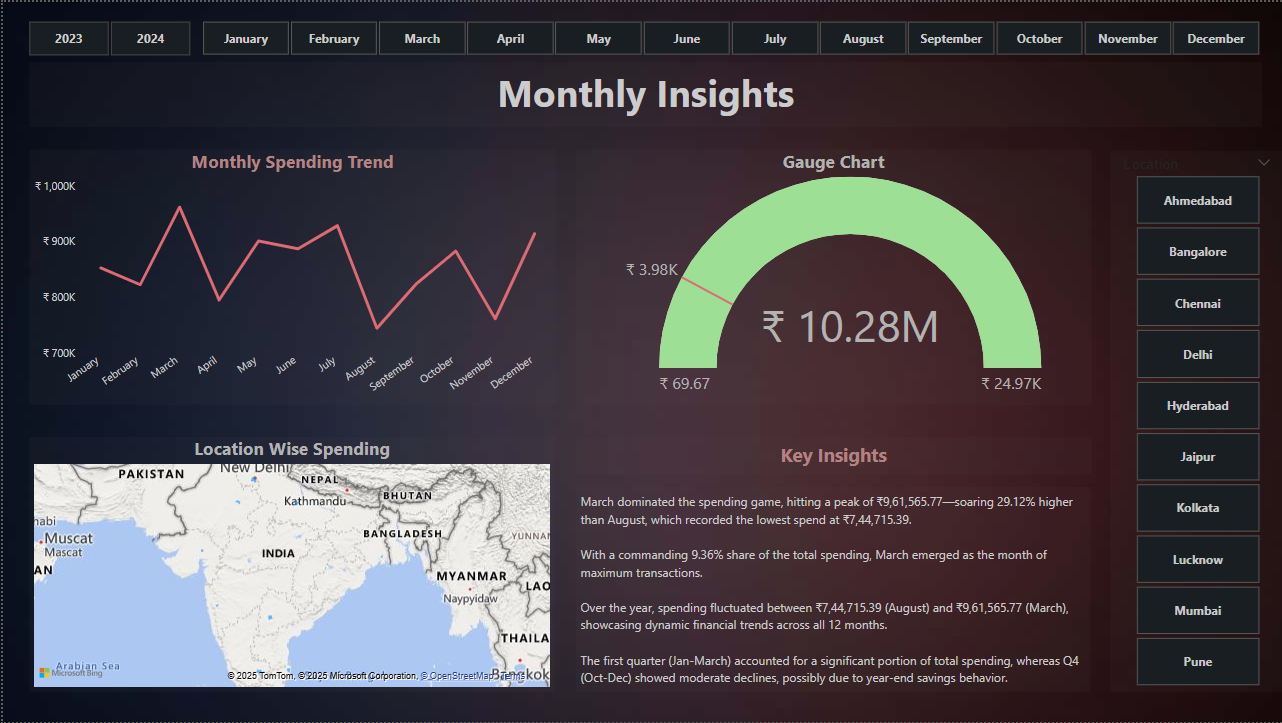

Layout of this report page (visuals, bound fields, positions):
{"tool":"powerbi","page":{"name":"Monthly Insights","canvas":[1280,720],"ordinal":1},"visuals":[{"type":"slicer","fields":{"Values":["Final_Dataset_Updated.Month"]},"box":[173.7,12.1,1106.3,47.1],"z":0},{"type":"slicer","fields":{"Values":["Final_Dataset_Updated.Year"]},"box":[0,12.2,211.6,47.7],"z":1000},{"type":"lineChart","title":"Monthly Spending Trend","fields":{"Y":["Sum(Final_Dataset_Updated.Amount)"],"Category":["Final_Dataset_Updated.Month"]},"box":[26.2,148,526.8,255],"z":2000},{"type":"textbox","box":[26.2,59.8,1233,65.1],"z":3000},{"type":"filledMap","title":"Location Wise Spending","fields":{"Category":["Final_Dataset_Updated.Location"]},"box":[26.6,434.7,525.9,255.2],"z":4000},{"type":"slicer","fields":{"Values":["Final_Dataset_Updated.Location"]},"box":[1107.5,148.8,172.5,541.2],"z":5000},{"type":"textbox","title":"Key Insights","box":[572,434.7,516,37.3],"z":6000},{"type":"textbox","box":[572.5,485,515,205],"z":7000},{"type":"gauge","title":"Gauge Chart","fields":{"Y":["Sum(Final_Dataset_Updated.Amount)"],"MaxValue":["Max(Final_Dataset_Updated.Amount)"],"TargetValue":["Avg(Final_Dataset_Updated.Amount)"],"MinValue":["Min(Final_Dataset_Updated.Amount)"]},"box":[572.5,147.5,516.2,255],"z":8000}]}

Visuals, with their boxes in screenshot pixels (x1, y1, x2, y2), scaled from the page's 1280x720 canvas onto the 1282x723 screenshot:
slicer - Final_Dataset_Updated.Month: box(174, 12, 1281, 59)
slicer - Final_Dataset_Updated.Year: box(0, 12, 212, 60)
"Monthly Spending Trend" lineChart: box(26, 149, 554, 405)
textbox: box(26, 60, 1261, 125)
"Location Wise Spending" filledMap: box(27, 437, 553, 693)
slicer - Final_Dataset_Updated.Location: box(1109, 149, 1281, 693)
"Key Insights" textbox: box(573, 437, 1090, 474)
textbox: box(573, 487, 1089, 693)
"Gauge Chart" gauge: box(573, 148, 1090, 404)
